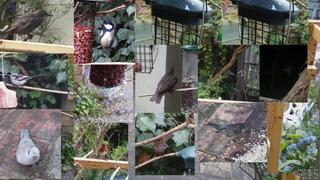blackbird: (206, 123, 247, 145)
collared dove: (16, 129, 41, 172)
dunnock: (152, 133, 175, 161)
great tit: (89, 20, 115, 52)
long tailed tit: (9, 73, 48, 88)
robin: (96, 143, 108, 160)
starling: (3, 8, 54, 42), (149, 65, 178, 104)
